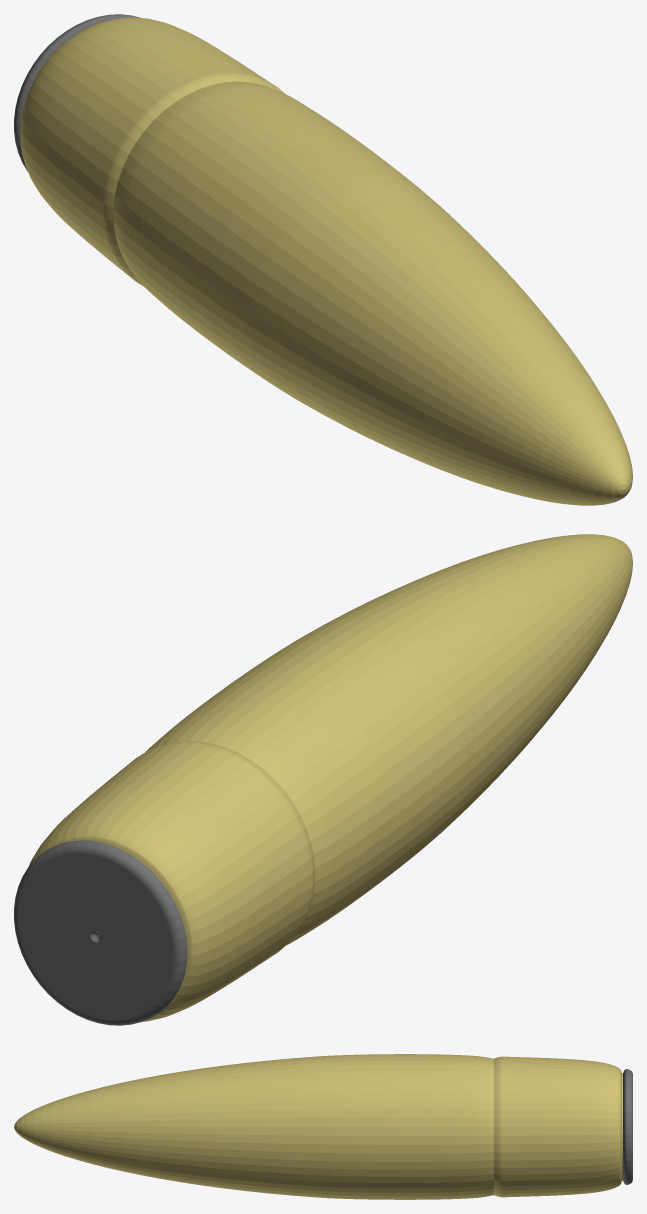
Rendered from projektil OBJ.obj.
The picture shows the model from 3 angles, top to bottom: view 1: azimuth 30°, elevation 25°; view 2: azimuth 150°, elevation 25°; view 3: azimuth 270°, elevation 25°; orthographic projection. The views are drawn at different scales.
Visible parts, largest first — view 1: Linie01; view 2: Linie01; view 3: Linie01.
Boxes of the visible parts, box(x1,y1,x2,y2) form: Linie01: box(14, 14, 632, 505); Linie01: box(14, 534, 632, 1025); Linie01: box(14, 1054, 632, 1199).
Size of the model in its own units: 1.27 by 1.27 by 5.4.
